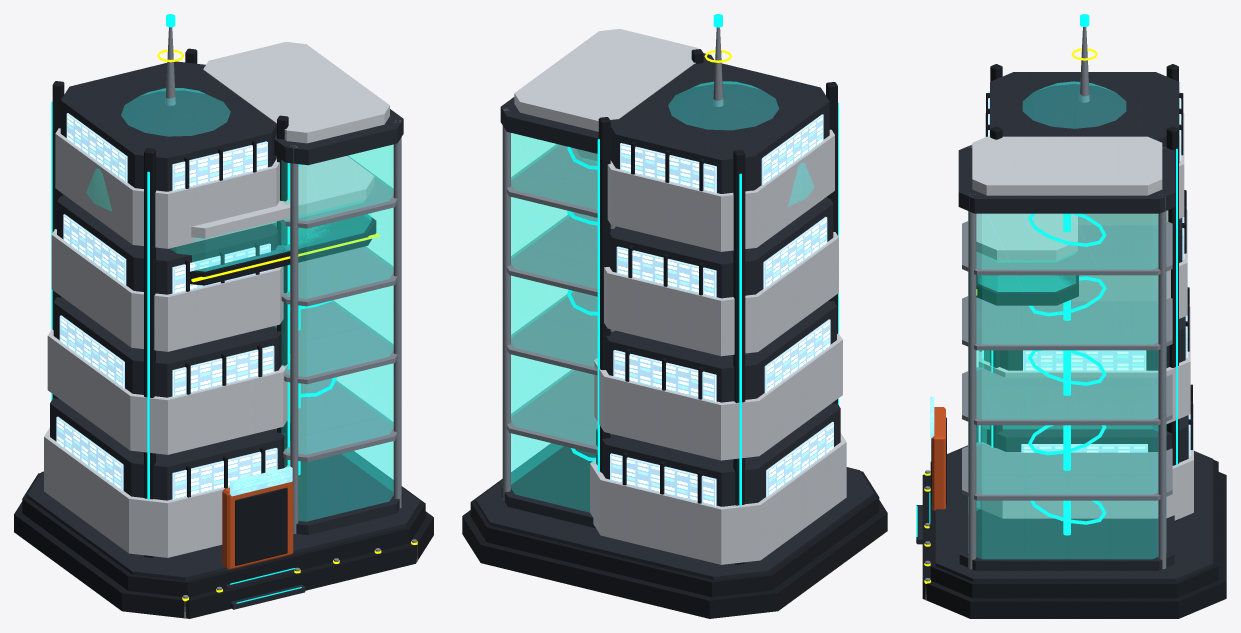
Rendered from bldg_18_r1_05.glb.
3 renders of one model, left to right at view 1: azimuth 30°, elevation 25°; view 2: azimuth 150°, elevation 25°; view 3: azimuth 270°, elevation 25°, orthographic. The views are drawn at different scales.
Parts seen in each view (by area): view 1: Bldg18_C05_aero_white, Bldg18_C05_carbon_slate, Bldg18_C05_glass_emerald, Bldg18_C05_gunmetal, Bldg18_C05_steel_machined, Bldg18_C05_window_lit, Bldg18_C05_led_cyan, Bldg18_C05_accent_orange, Bldg18_C05_marquee, Bldg18_C05_led_amber; view 2: Bldg18_C05_aero_white, Bldg18_C05_carbon_slate, Bldg18_C05_glass_emerald, Bldg18_C05_gunmetal, Bldg18_C05_steel_machined, Bldg18_C05_window_lit, Bldg18_C05_led_cyan; view 3: Bldg18_C05_glass_emerald, Bldg18_C05_carbon_slate, Bldg18_C05_steel_machined, Bldg18_C05_aero_white, Bldg18_C05_gunmetal, Bldg18_C05_led_cyan, Bldg18_C05_window_lit, Bldg18_C05_accent_orange.
Boxes of the visible parts, <box> form: Bldg18_C05_aero_white: <box>44,42,389,557</box>; Bldg18_C05_carbon_slate: <box>27,61,420,609</box>; Bldg18_C05_glass_emerald: <box>86,88,393,521</box>; Bldg18_C05_gunmetal: <box>14,48,433,618</box>; Bldg18_C05_steel_machined: <box>165,27,417,618</box>; Bldg18_C05_window_lit: <box>56,113,277,499</box>; Bldg18_C05_led_cyan: <box>51,14,337,603</box>; Bldg18_C05_accent_orange: <box>222,479,293,569</box>; Bldg18_C05_marquee: <box>230,466,292,496</box>; Bldg18_C05_led_amber: <box>157,49,417,601</box>; Bldg18_C05_aero_white: <box>514,29,846,564</box>; Bldg18_C05_carbon_slate: <box>475,53,874,580</box>; Bldg18_C05_glass_emerald: <box>511,81,814,512</box>; Bldg18_C05_gunmetal: <box>462,49,887,618</box>; Bldg18_C05_steel_machined: <box>502,27,870,501</box>; Bldg18_C05_window_lit: <box>610,114,833,506</box>; Bldg18_C05_led_cyan: <box>567,14,838,505</box>; Bldg18_C05_glass_emerald: <box>968,81,1166,558</box>; Bldg18_C05_carbon_slate: <box>916,72,1213,581</box>; Bldg18_C05_steel_machined: <box>925,27,1172,600</box>; Bldg18_C05_aero_white: <box>972,113,1193,520</box>; Bldg18_C05_gunmetal: <box>922,64,1226,618</box>; Bldg18_C05_led_cyan: <box>916,14,1177,536</box>; Bldg18_C05_window_lit: <box>978,91,1190,456</box>; Bldg18_C05_accent_orange: <box>932,407,945,510</box>.
Bounding box in the file's own units: 12 × 19.32 × 10.71.
12 materials, 12 textured.
